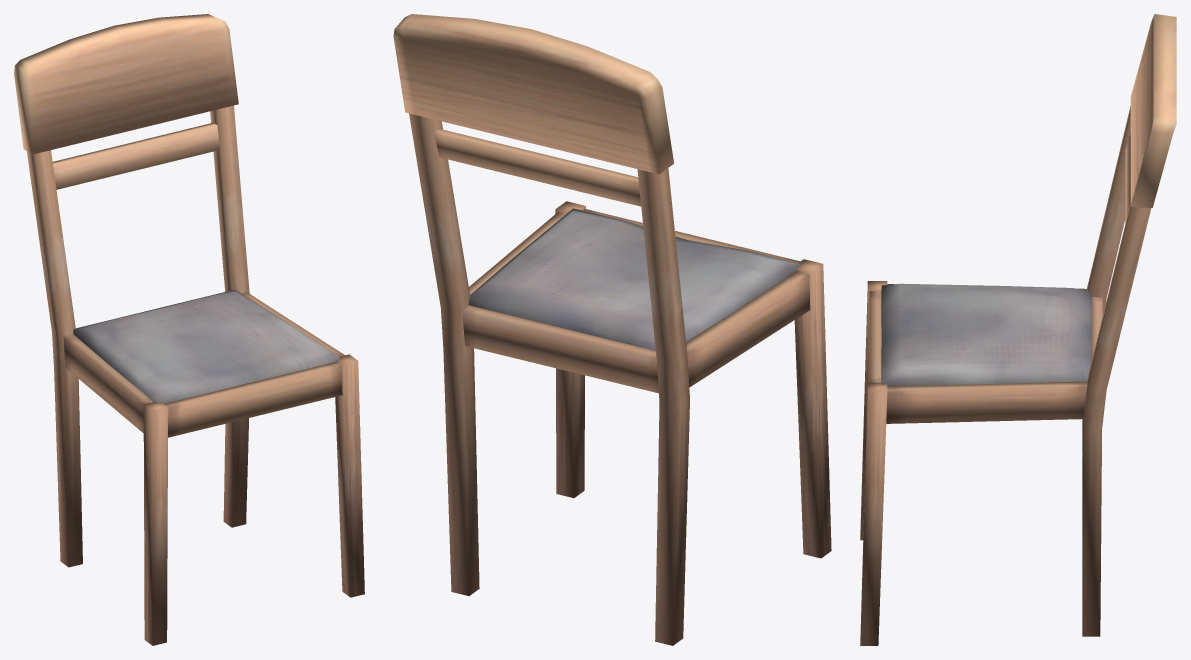
The model's file is product_2.obj.
3 renders of one model, left to right at view 1: azimuth 30°, elevation 25°; view 2: azimuth 150°, elevation 25°; view 3: azimuth 270°, elevation 25°, orthographic. The views are drawn at different scales.
Size of the model in its own units: 0.0215 by 0.0476 by 0.0254.
1 material, 1 textured.
